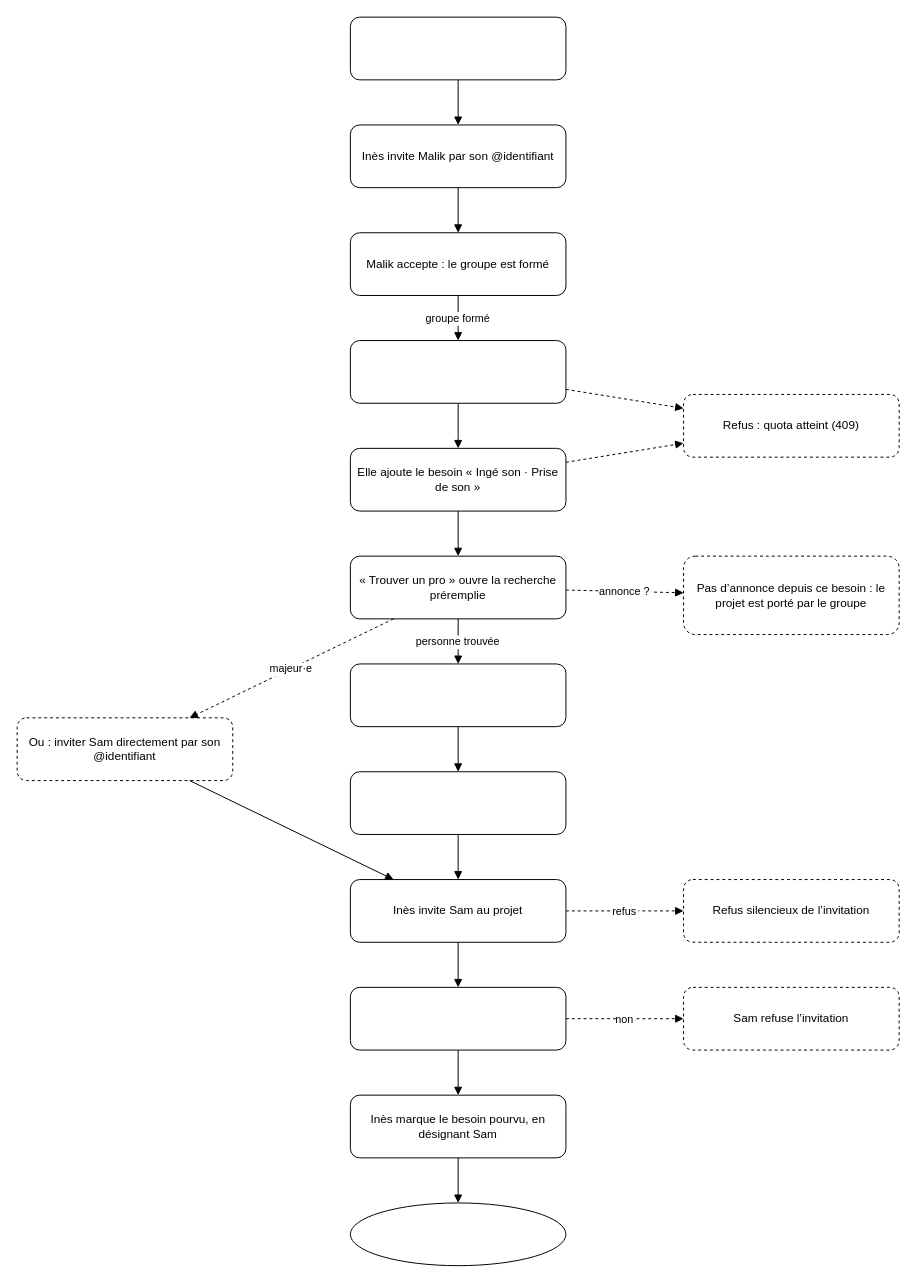
Some shapes in this 916 by 1283 pixel diagram are drawn without their labels. The box of each missing label's shape, as (x1, y1, x2, y2) in pixels:
Inès crée l’EP « Aube » au nom du groupe: (349, 340, 566, 403)
Inès monte le groupe « Lumière »: (349, 16, 566, 80)
Inès écrit d’abord à Sam: (349, 663, 566, 727)
L’équipe de l’EP est constituée: (349, 1202, 566, 1266)
Sam accepte depuis « À traiter »: (349, 986, 566, 1050)
Sam répond : le contact est accepté: (349, 771, 566, 834)
